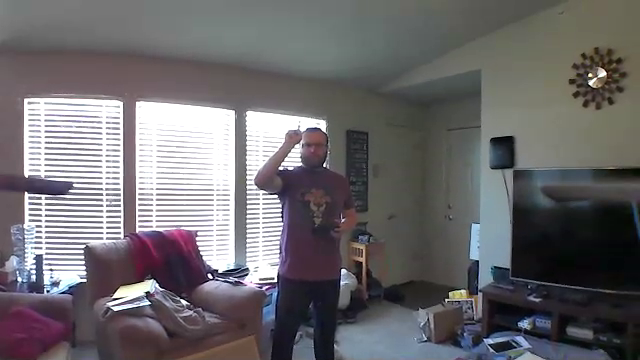up: (284, 121, 307, 147)
